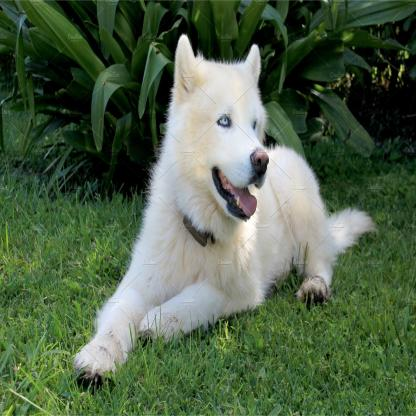husky: (76, 41, 377, 377)
